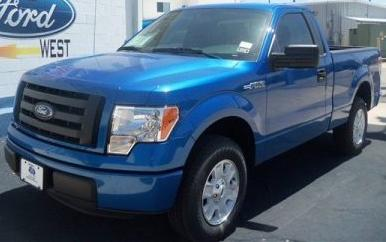front_view: (9, 77, 190, 214)
headlight: (104, 94, 184, 150)
side_glass: (270, 6, 336, 76)
